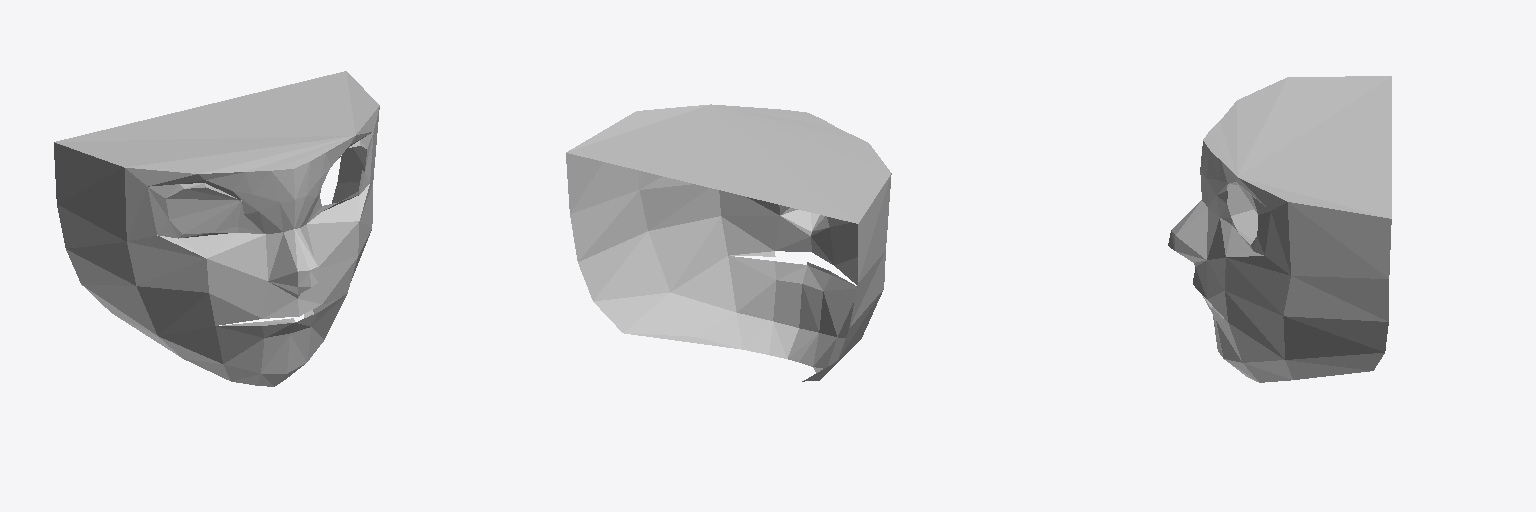
Rendered from head.obj.
3 views of the same model, side by side, from view 1: azimuth 30°, elevation 25°; view 2: azimuth 150°, elevation 25°; view 3: azimuth 270°, elevation 25° (orthographic).
Parts seen in each view (by area): view 1: D[number redacted].001; view 2: D[number redacted].001; view 3: D[number redacted].001.
Boxes of the visible parts, box(x1,y1,x2,y2) form: D[number redacted].001: box(54, 71, 379, 386); D[number redacted].001: box(566, 104, 891, 381); D[number redacted].001: box(1168, 76, 1391, 382).
Size of the model in its own units: 3.04 by 2.32 by 2.01.